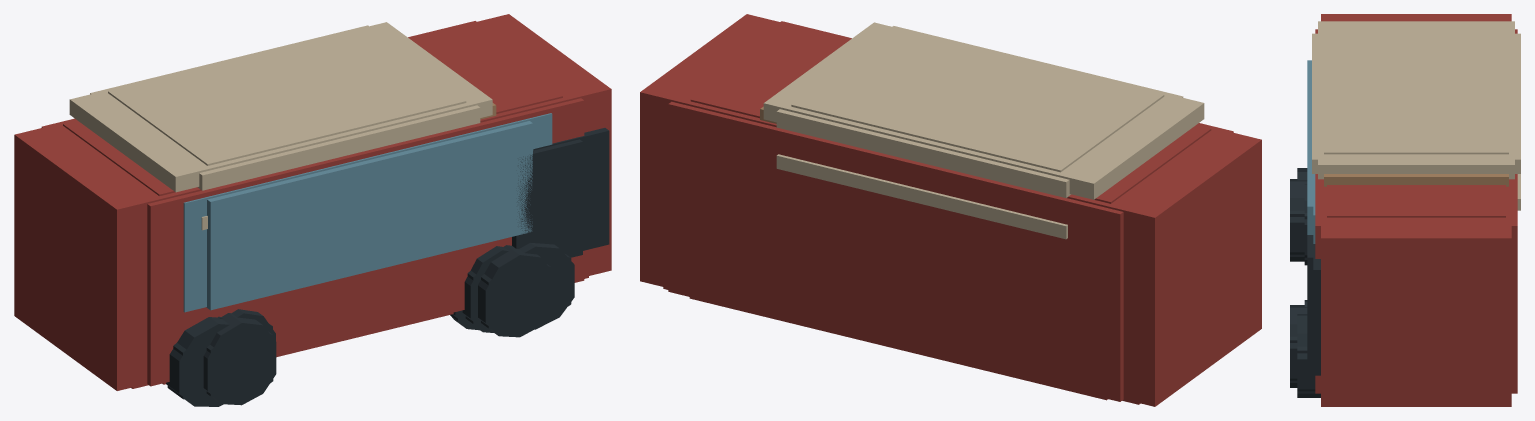
File: vehicles.5c5ffb3eebbf.glb
3 renders of one model, left to right at view 1: azimuth 30°, elevation 25°; view 2: azimuth 150°, elevation 25°; view 3: azimuth 270°, elevation 25°, orthographic. The views are drawn at different scales.
Parts seen in each view (by area): view 1: box-truck__near, sedan-car__near, tanker-truck__near, electric-shuttle__near, delivery-van__near, sedan-car__mid, tanker-truck__mid, box-truck__mid, delivery-van__mid; view 2: box-truck__near, sedan-car__near, tanker-truck__near, electric-shuttle__near, delivery-van__near, sedan-car__far; view 3: tanker-truck__near, electric-shuttle__near, delivery-van__near, box-truck__near, sedan-car__near.
Boxes of the visible parts, box(x1,y1,x2,y2) form: box-truck__near: box(41, 21, 584, 401); sedan-car__near: box(147, 103, 584, 405); tanker-truck__near: box(14, 14, 611, 403); electric-shuttle__near: box(63, 25, 562, 340); delivery-van__near: box(14, 128, 611, 406); sedan-car__mid: box(206, 282, 551, 404); tanker-truck__mid: box(173, 247, 571, 400); box-truck__mid: box(206, 257, 551, 401); delivery-van__mid: box(167, 267, 571, 406); box-truck__near: box(668, 21, 1233, 392); sedan-car__near: box(668, 106, 1123, 401); tanker-truck__near: box(640, 14, 1261, 396); electric-shuttle__near: box(690, 26, 1211, 203); delivery-van__near: box(640, 149, 1261, 406); sedan-car__far: box(689, 297, 1107, 400); tanker-truck__near: box(1297, 14, 1514, 398); electric-shuttle__near: box(1304, 35, 1508, 306); delivery-van__near: box(1297, 274, 1511, 406); box-truck__near: box(1290, 29, 1520, 385); sedan-car__near: box(1290, 174, 1520, 393).
Size of the model in its own units: 0.8892 by 0.3981 by 0.387.
